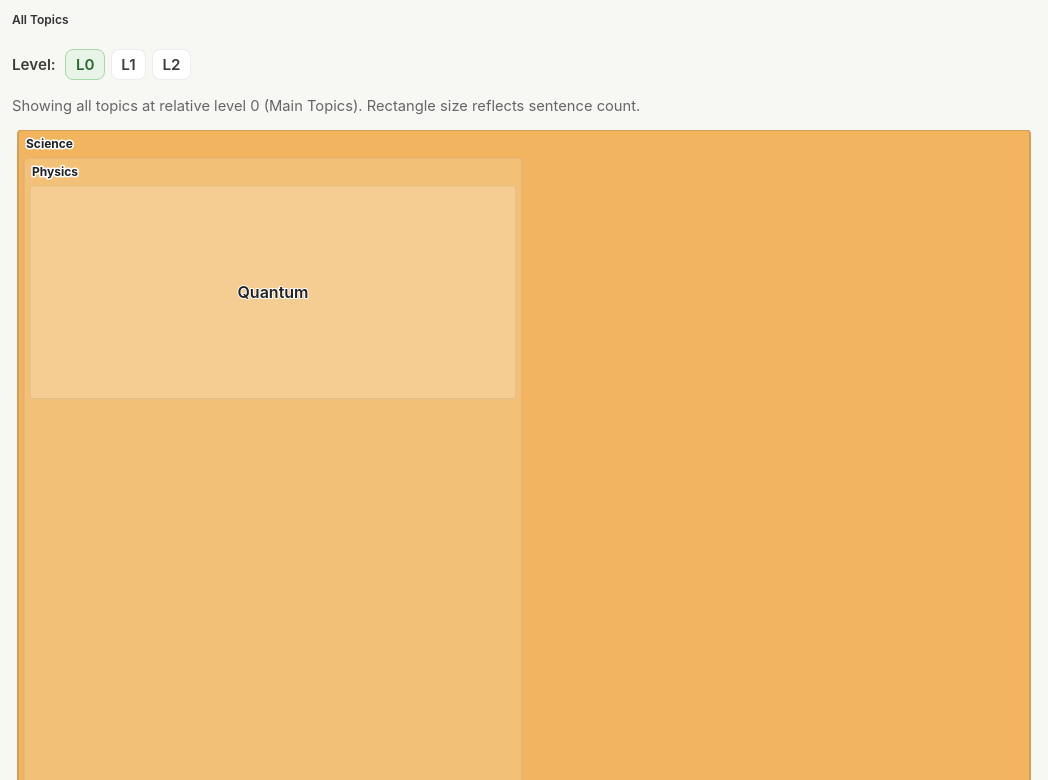
Scenario: TreemapChart component › updates the subtitle when the selected level changes
Click the button "L1".
click(128, 65)  # box [111,49,146,80]
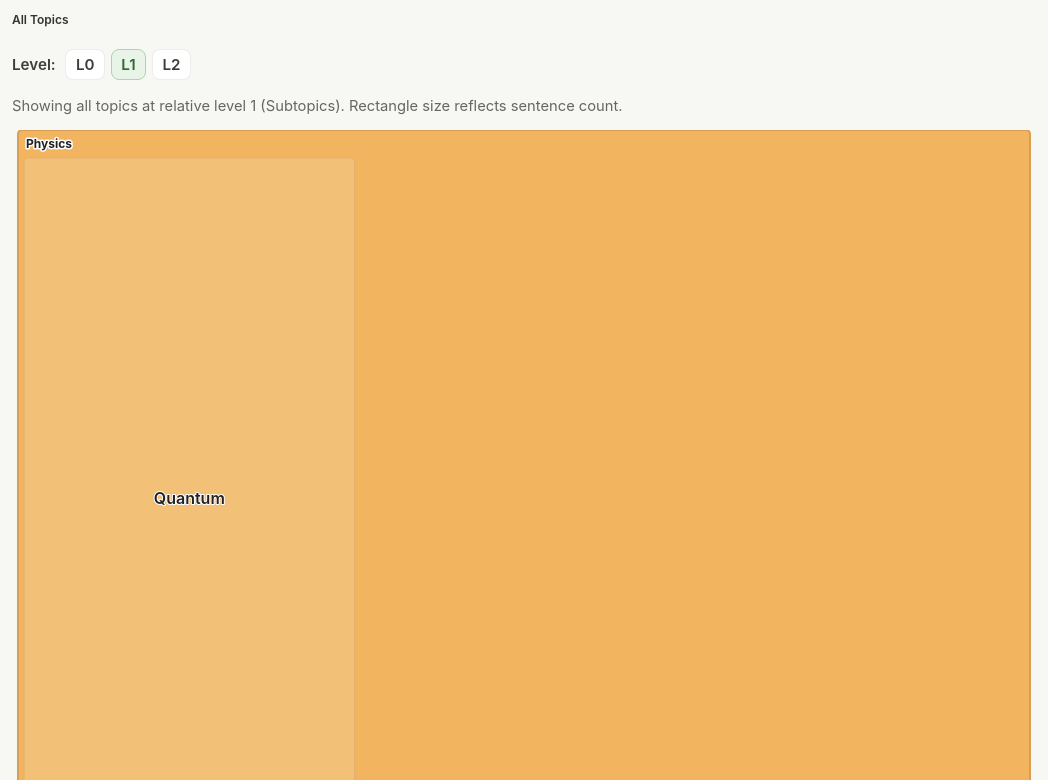
Expected: the text "Showing all topics at relative level 1 (Subtopics). Rectangle size reflects sentence count." is shown, [12,97,623,115]
